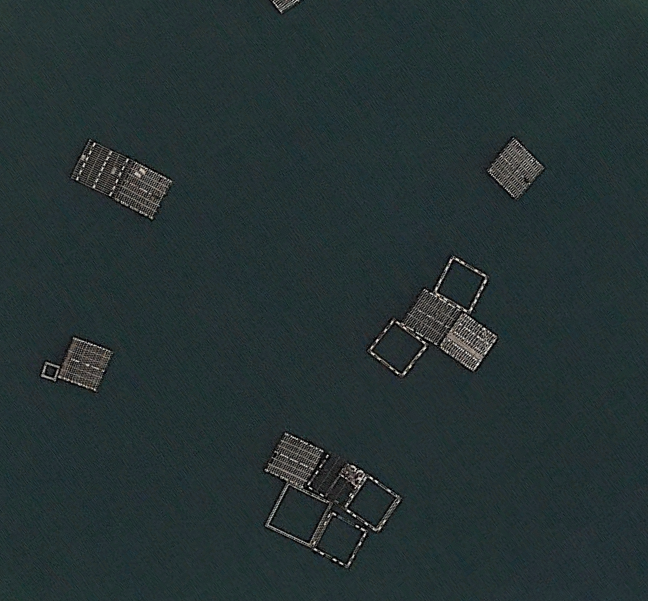square: (258, 476, 335, 555), (484, 129, 550, 205), (110, 153, 179, 224), (65, 135, 133, 206), (361, 314, 431, 382), (262, 425, 327, 493), (311, 505, 373, 576), (401, 285, 466, 351), (344, 469, 409, 535), (302, 447, 369, 509), (435, 311, 499, 374), (431, 252, 492, 318), (57, 330, 115, 395), (34, 354, 62, 385)
